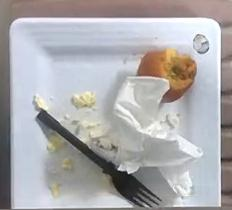fruit: (136, 48, 194, 101)
